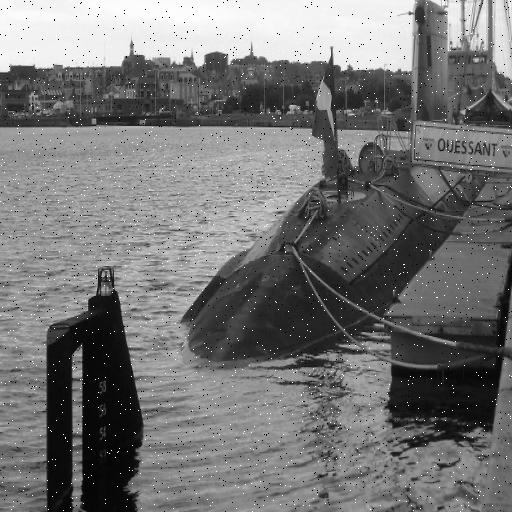submarine: (177, 1, 499, 366)
